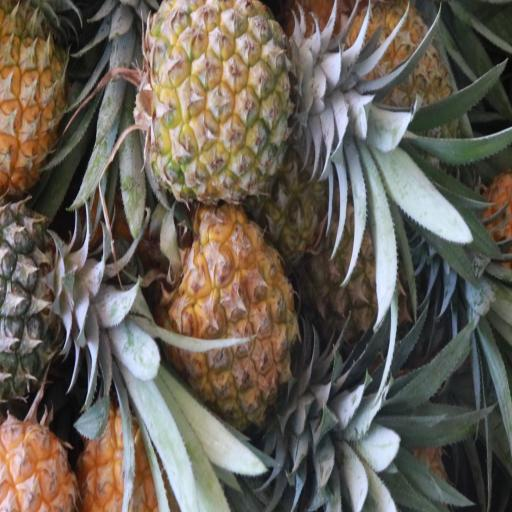------------------------------: (338, 0, 451, 169)
Pineapple - v8 v1: (143, 0, 289, 211), (160, 202, 294, 430), (0, 0, 69, 196)
